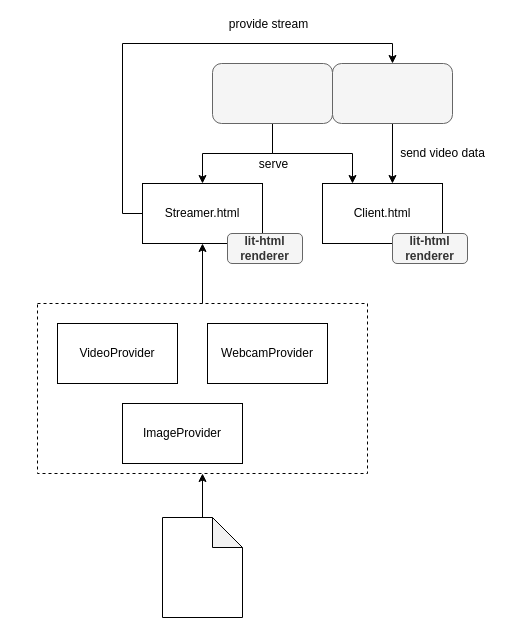
Image size: 524x635. Some labels were removed from this diagram. Here are the shapes that lost their labels. From the top down, the centre of each, then its label:
[272,93]: Koa Web Server
[392,93]: WebSocket Server
[202,567]: .env
